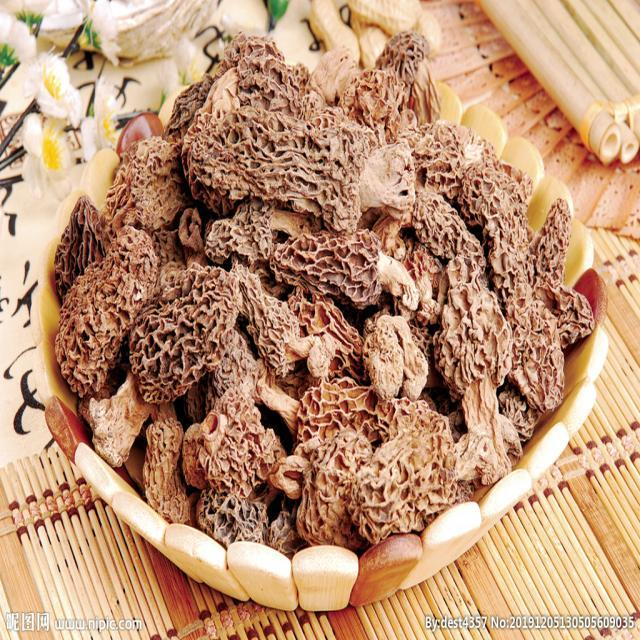Morchella esculenta: (55, 28, 594, 550)
